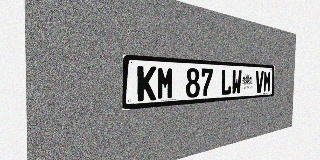7: (200, 68, 213, 97)
8: (186, 68, 200, 98)
K: (137, 66, 156, 101)
L: (221, 69, 232, 95)
M: (157, 66, 174, 100), (263, 71, 271, 92)
V: (255, 70, 264, 93)
W: (231, 70, 242, 95)
